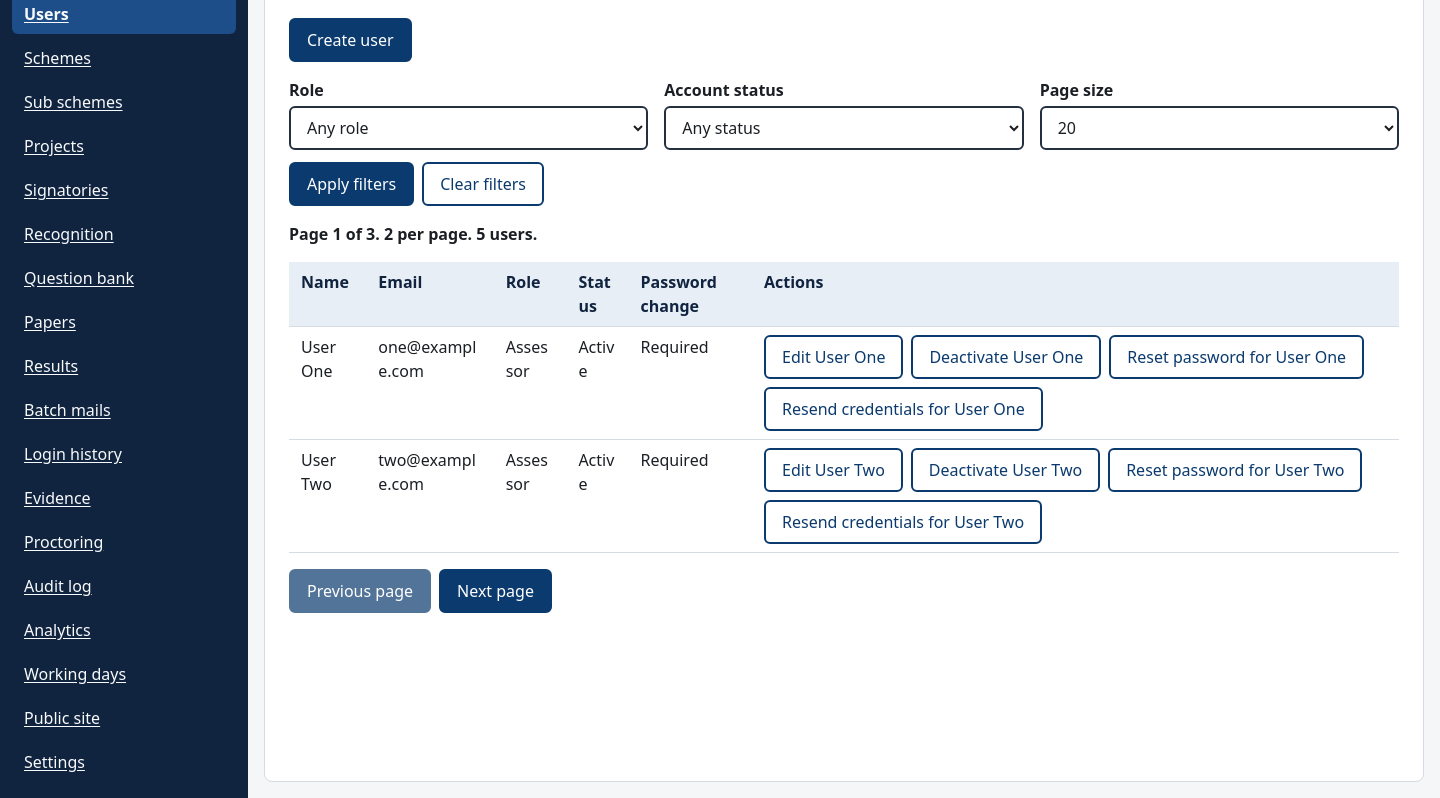
it: pages with the returned page, pageSize, and total
(page scrolled)
Expected: the text "Page 1 of 3. 2 per page. 5 users." is shown, [289,223,537,245]
Expected: the column headings read "Name", "Email", "Role", "Status", "Password change", "Actions", in this order, [289,262,366,326]; [366,262,494,326]; [494,262,566,326]; [566,262,628,326]; [628,262,752,326]; [752,262,1399,326]
Click the button "Next page" at (496, 591), box [439,569,552,613]
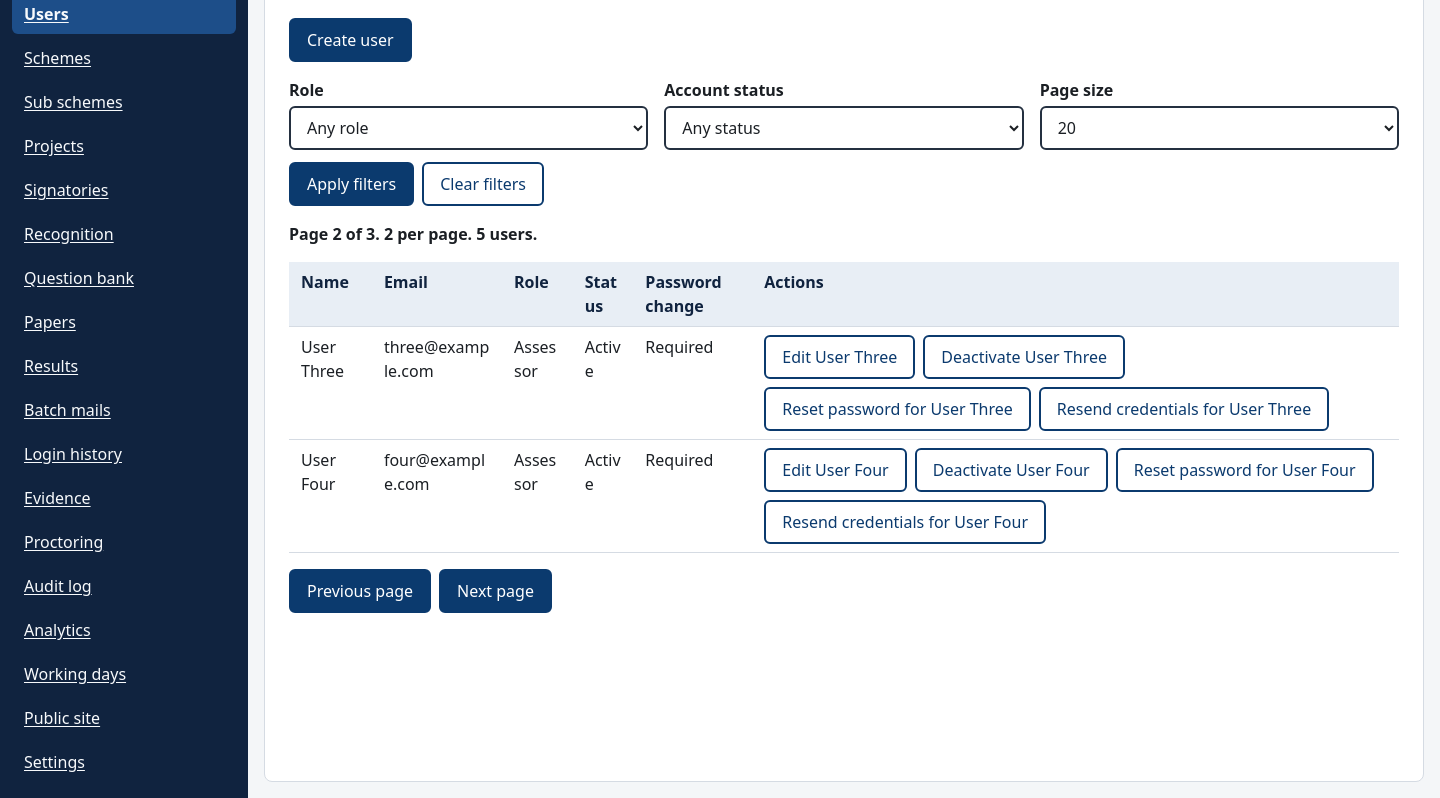
Result: the cell "User Three" is shown at [289,327,372,439]
Result: the text "Page 2 of 3. 2 per page. 5 users." is shown at [289,223,537,245]
Click the button "Next page" at (496, 591), box [439,569,552,613]
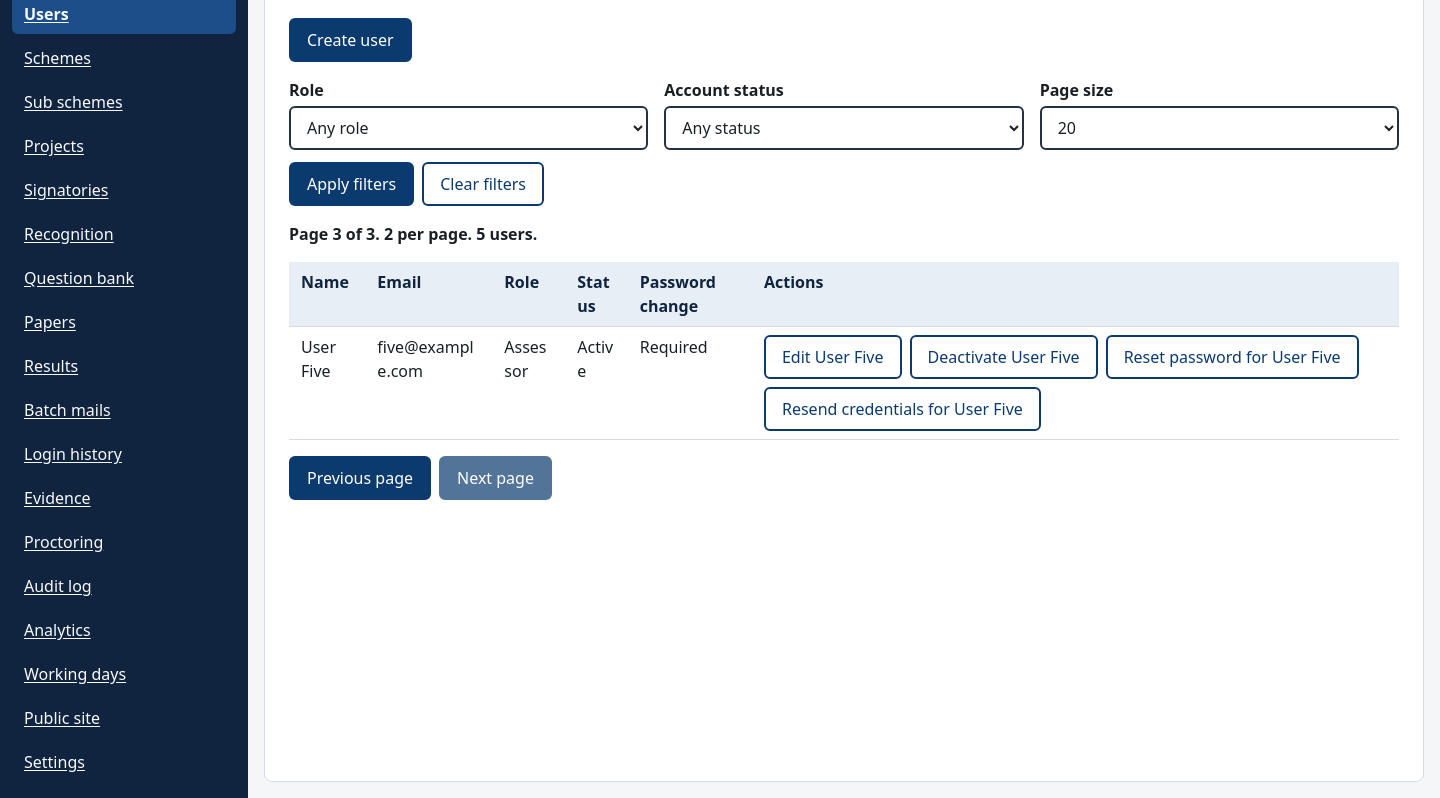
Result: the cell "User Five" is shown at [289,327,365,439]
Result: the button "Next page" is disabled at [439,456,552,500]
Click the button "Previous page" at (360, 478), box [289,456,431,500]
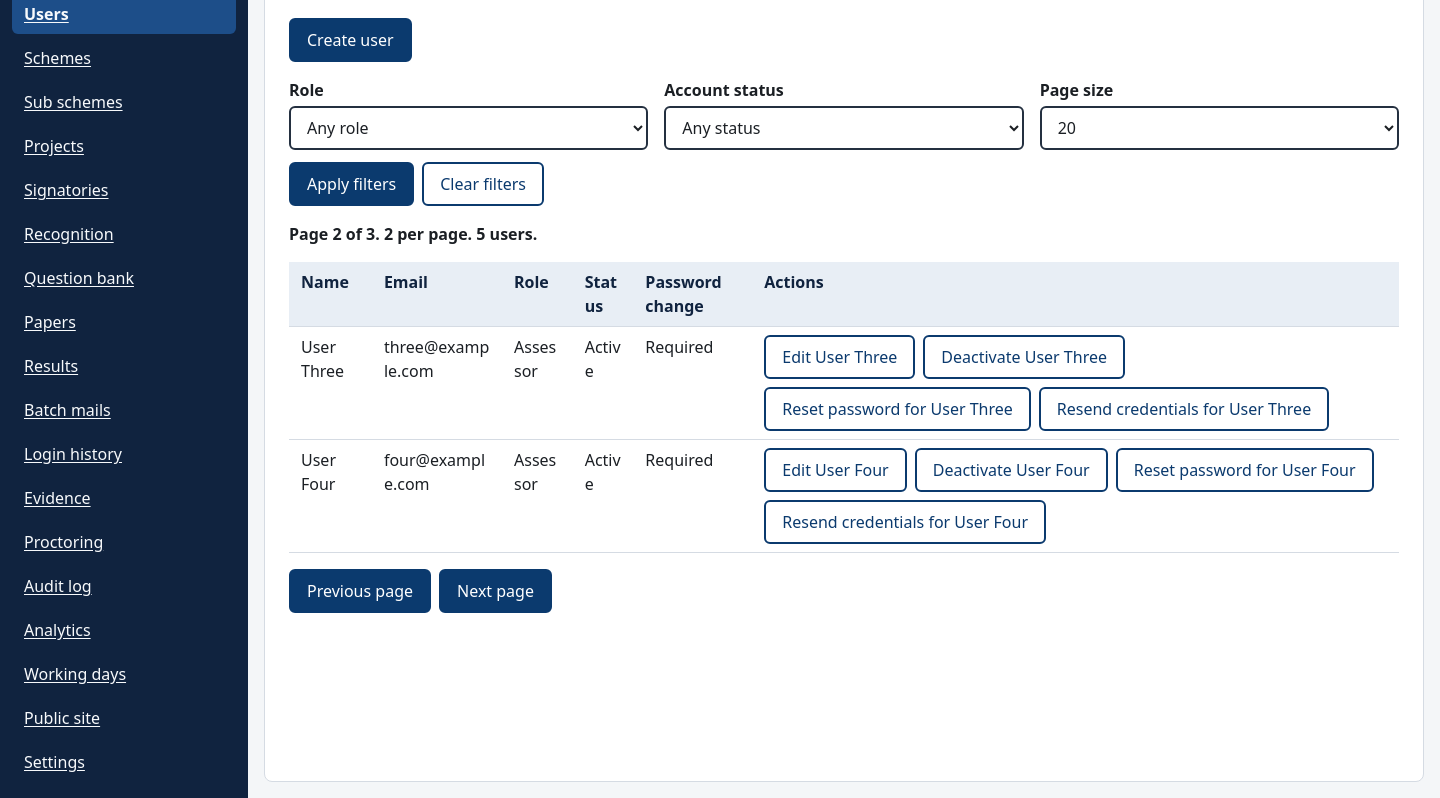
Result: the cell "User Three" is shown at [289,327,372,439]
